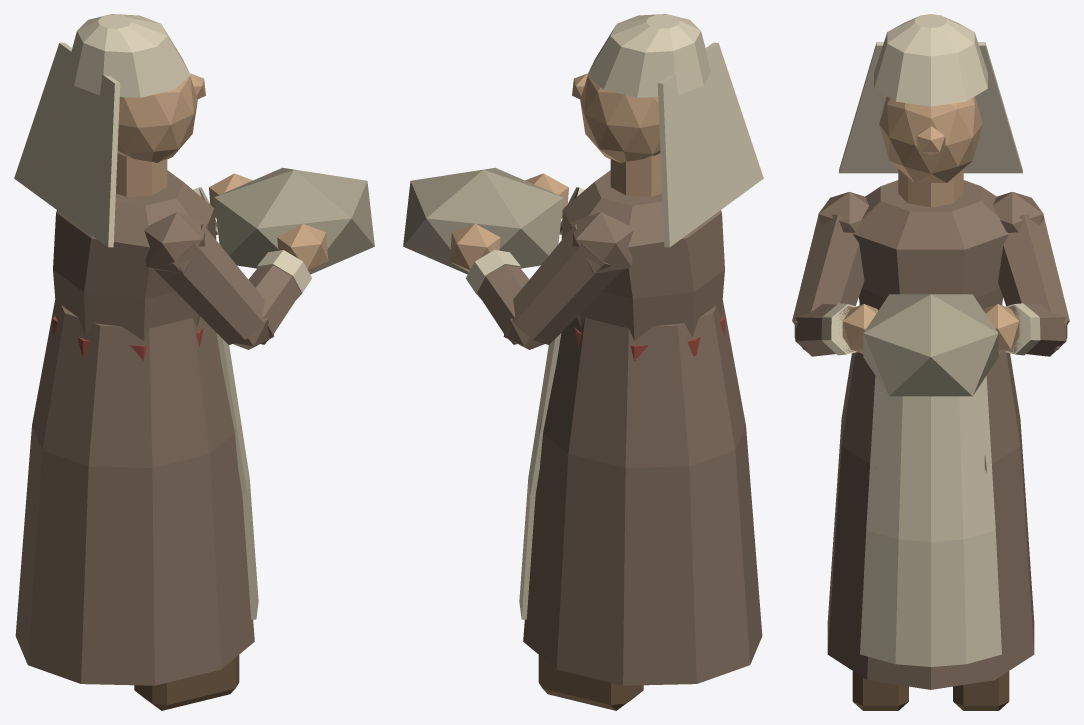
The model's file is civilian_woman.glb.
3 views of the same model, side by side, from view 1: azimuth 30°, elevation 25°; view 2: azimuth 150°, elevation 25°; view 3: azimuth 270°, elevation 25° (orthographic). The views are drawn at different scales.
Visible parts, largest first — view 1: civilian_woman_civilian_dress, civilian_woman_linen, civilian_woman_padded_linen, civilian_woman_skin, civilian_woman_leather; view 2: civilian_woman_civilian_dress, civilian_woman_linen, civilian_woman_padded_linen, civilian_woman_skin, civilian_woman_leather; view 3: civilian_woman_civilian_dress, civilian_woman_linen, civilian_woman_padded_linen, civilian_woman_skin, civilian_woman_leather.
Boxes of the visible parts, box(x1,y1,x2,y2) form: civilian_woman_civilian_dress: box(15, 170, 300, 685); civilian_woman_linen: box(14, 14, 311, 619); civilian_woman_padded_linen: box(214, 167, 374, 274); civilian_woman_skin: box(116, 73, 328, 271); civilian_woman_leather: box(134, 655, 239, 710); civilian_woman_civilian_dress: box(477, 170, 762, 685); civilian_woman_linen: box(466, 14, 763, 619); civilian_woman_padded_linen: box(403, 167, 563, 274); civilian_woman_skin: box(449, 73, 661, 271); civilian_woman_leather: box(538, 655, 643, 710); civilian_woman_civilian_dress: box(792, 180, 1069, 689); civilian_woman_linen: box(821, 14, 1040, 666); civilian_woman_padded_linen: box(863, 294, 998, 396); civilian_woman_skin: box(842, 96, 1019, 353); civilian_woman_leather: box(852, 671, 1009, 710).
Bounding box in the file's own units: 0.9168 × 1.72 × 0.6647.
